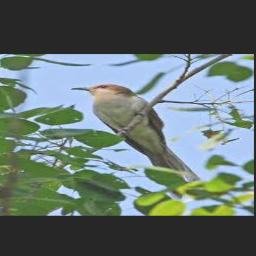Cuckoo: (70, 84, 200, 199)
